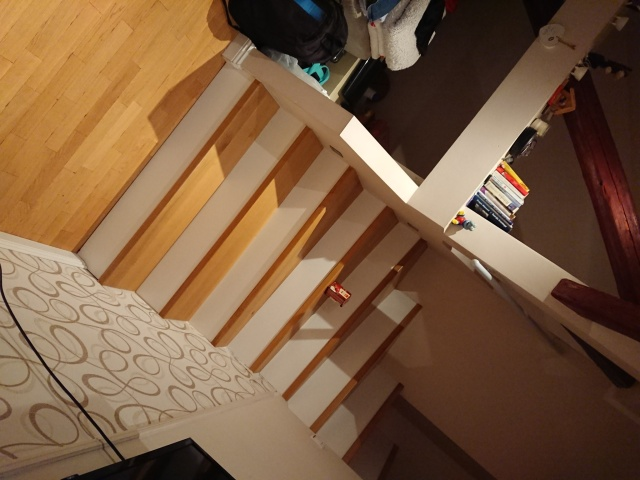Franck Apple Cinnamon Tea 60g: (322, 279, 353, 309)
